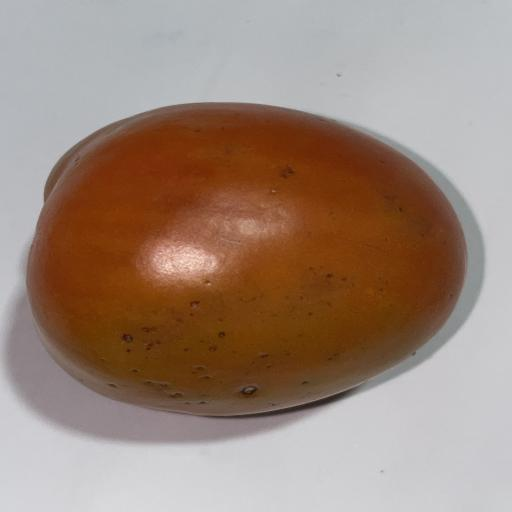ripe: (27, 103, 466, 415)
